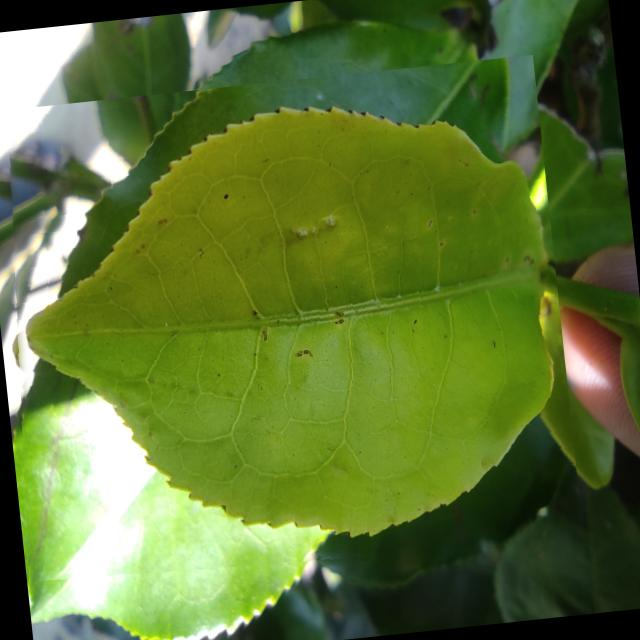Category C 4-7 days: (0, 54, 582, 597)
